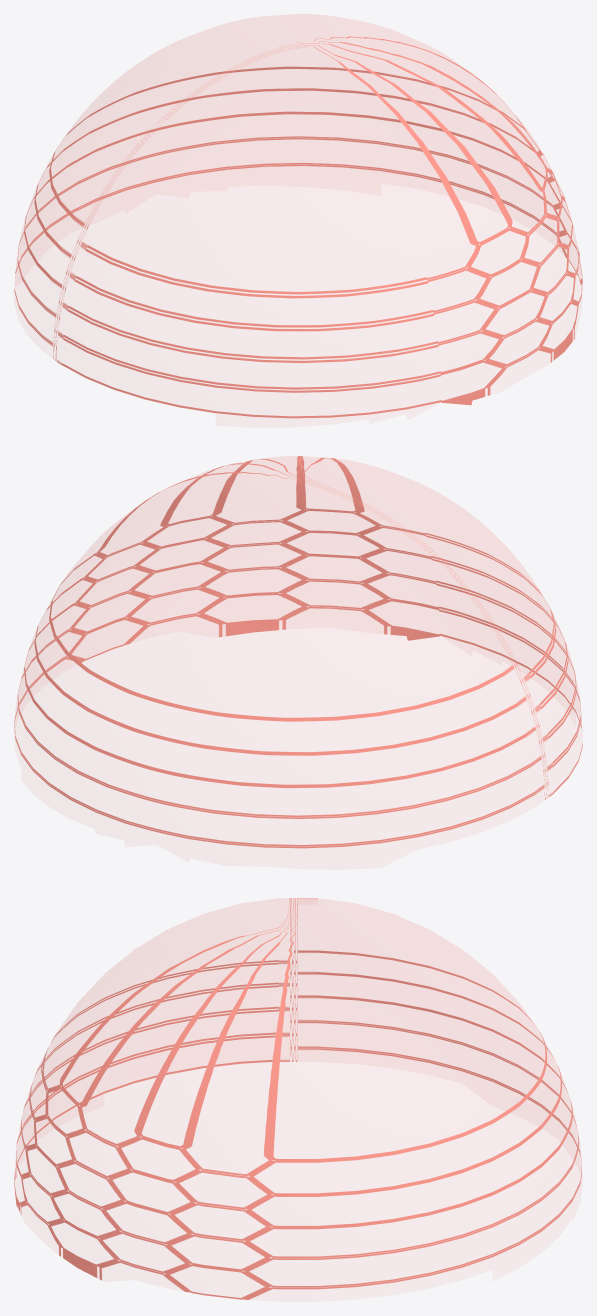
File: fx_dome_red.glb
The picture shows the model from 3 angles, top to bottom: view 1: azimuth 30°, elevation 25°; view 2: azimuth 150°, elevation 25°; view 3: azimuth 270°, elevation 25°; orthographic projection.
Parts seen in each view (by area): view 1: fx_dome_red; view 2: fx_dome_red; view 3: fx_dome_red.
Part boxes in pixels (x1,y1,x2,y2): fx_dome_red: (14, 14, 582, 418); fx_dome_red: (14, 456, 582, 848); fx_dome_red: (14, 898, 582, 1299).
Bounding box in the file's own units: 2 × 1.05 × 2.
Materials: 1 (1 with a texture image).
